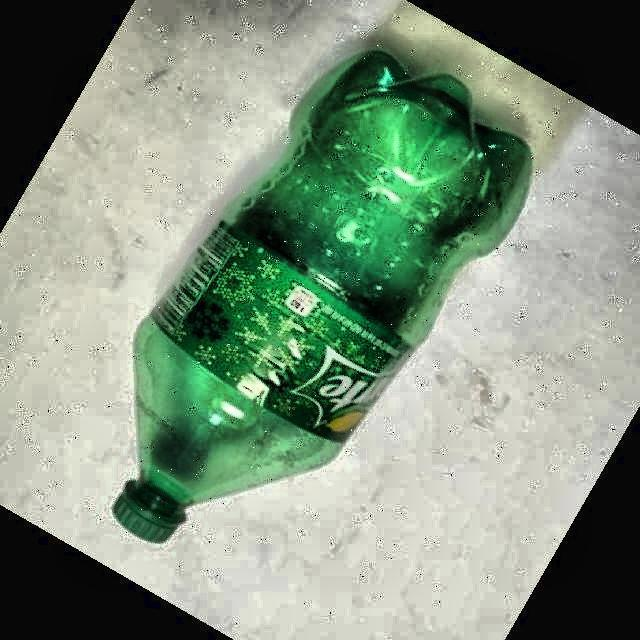plastic: (114, 50, 531, 542)
